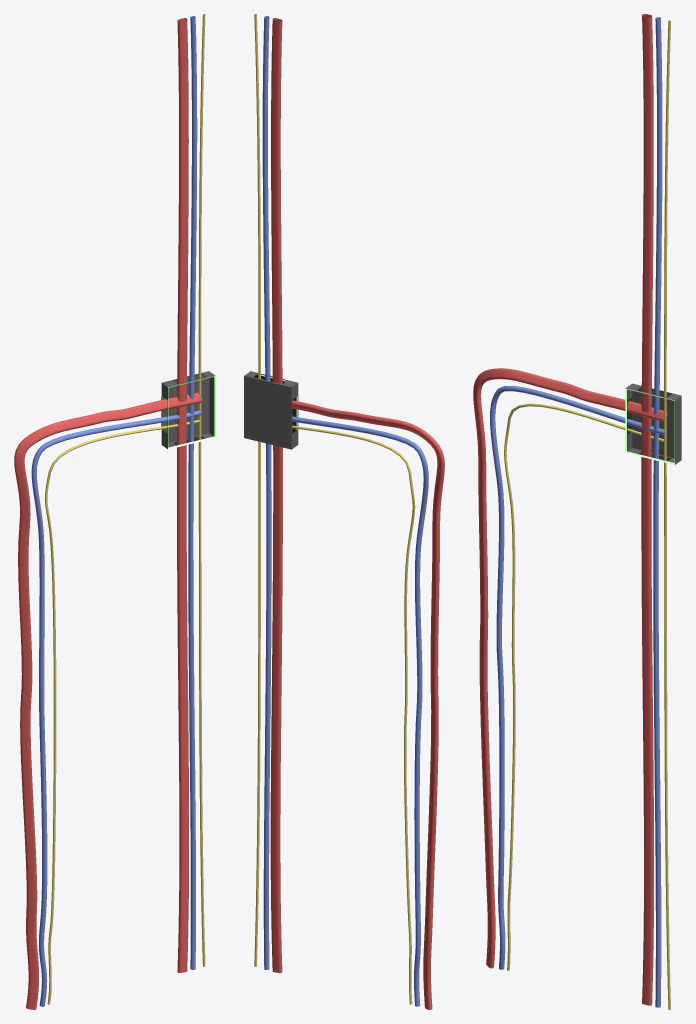
File: wires_left_side.glb
3 views of the same model, side by side, from view 1: azimuth 30°, elevation 25°; view 2: azimuth 150°, elevation 25°; view 3: azimuth 330°, elevation 25° (orthographic). The views are drawn at different scales.
Visible parts, largest first — view 1: NurbsPath.002, BezierCurve, NurbsPath.001, BezierCurve.001, NurbsPath, Cube.015, BezierCurve.002; view 2: NurbsPath.002, BezierCurve, NurbsPath.001, BezierCurve.001, Cube.015, NurbsPath, BezierCurve.002; view 3: NurbsPath.002, BezierCurve, NurbsPath.001, BezierCurve.001, NurbsPath, Cube.015, BezierCurve.002.
Part boxes in pixels (<box>): NurbsPath.002: <box>177,18,188,972</box>; BezierCurve: <box>14,392,202,1009</box>; NurbsPath.001: <box>188,16,197,969</box>; BezierCurve.001: <box>31,410,201,1006</box>; NurbsPath: <box>198,14,205,966</box>; Cube.015: <box>161,371,215,449</box>; BezierCurve.002: <box>45,420,200,1004</box>; NurbsPath.002: <box>270,18,282,973</box>; BezierCurve: <box>292,400,444,1009</box>; NurbsPath.001: <box>262,16,271,969</box>; BezierCurve.001: <box>292,416,428,1006</box>; Cube.015: <box>244,371,298,449</box>; NurbsPath: <box>254,14,260,966</box>; BezierCurve.002: <box>292,425,415,1004</box>; NurbsPath.002: <box>641,14,653,1005</box>; BezierCurve: <box>473,368,667,968</box>; NurbsPath.001: <box>653,17,662,1007</box>; BezierCurve.001: <box>490,386,666,969</box>; NurbsPath: <box>664,20,670,1009</box>; Cube.015: <box>625,383,681,464</box>; BezierCurve.002: <box>504,403,664,970</box>.
Bounding box in the file's own units: 0.869 × 4 × 0.0548.
